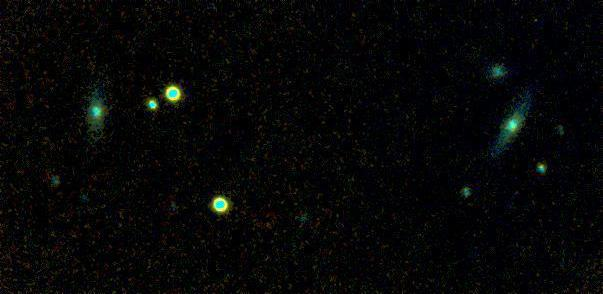star: (524, 8, 554, 38)
